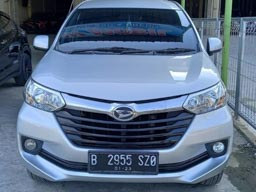plat: (89, 152, 158, 166)
